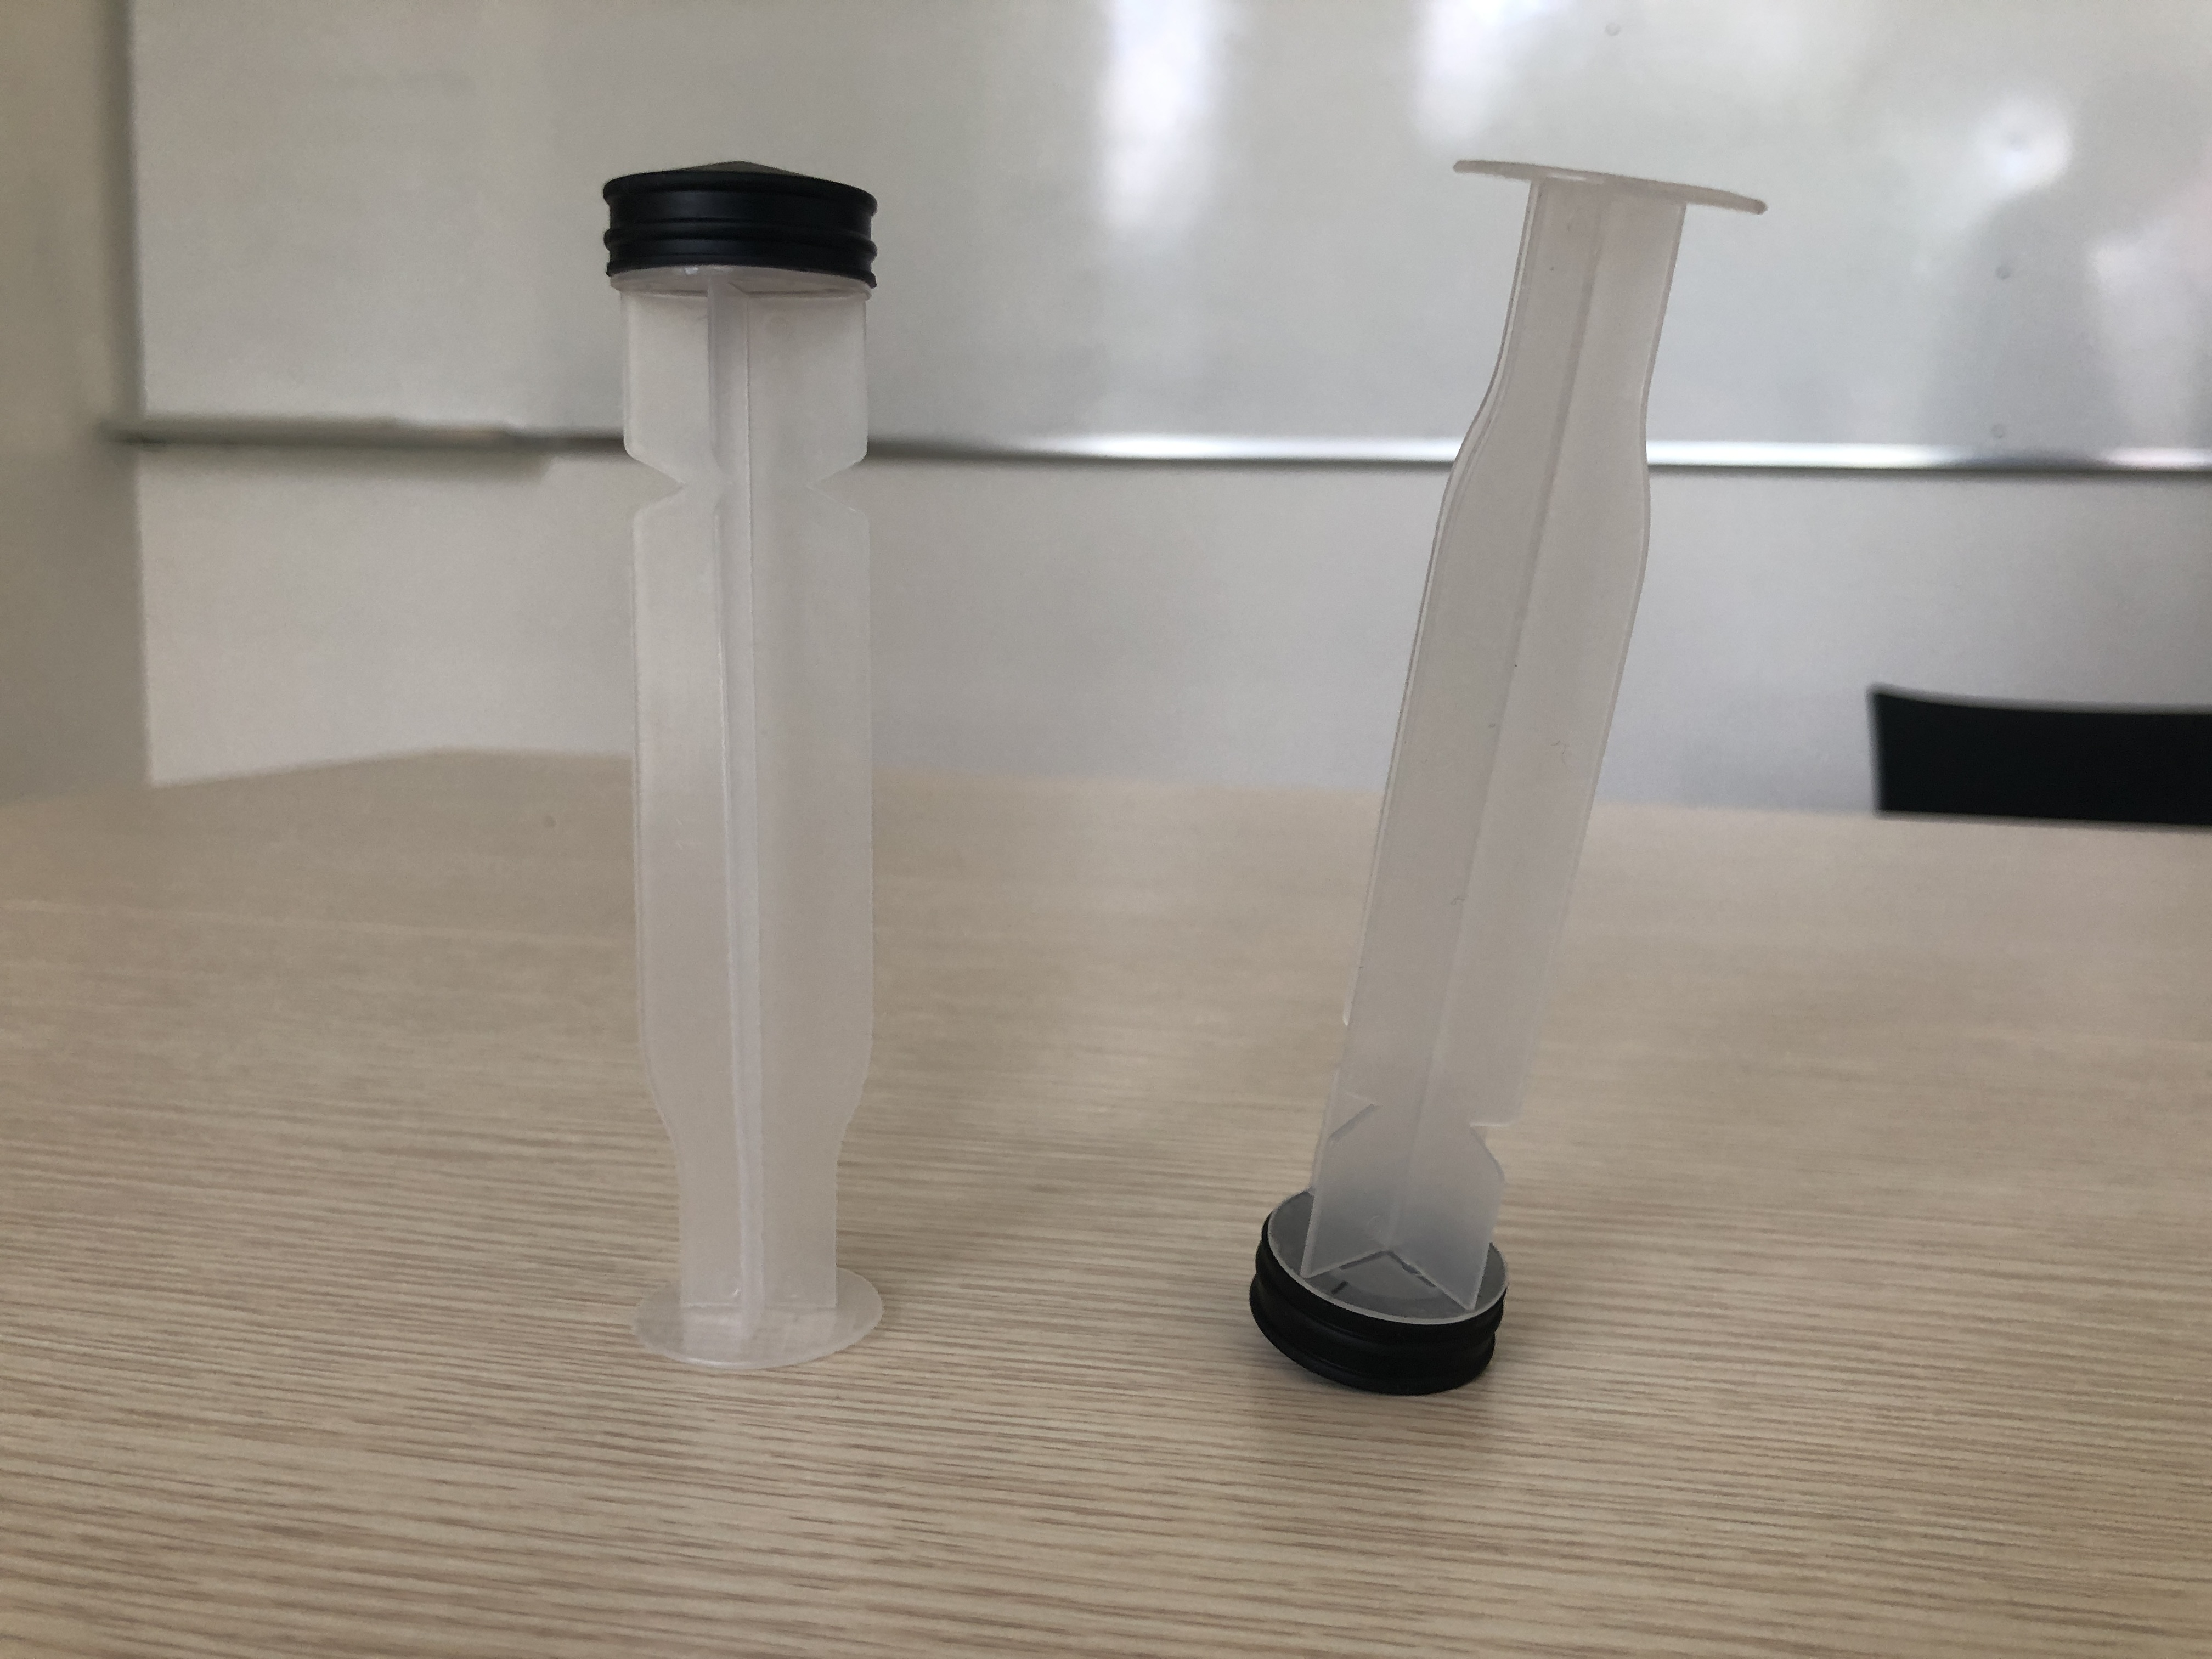plunger: (1235, 134, 1782, 1399), (594, 150, 902, 1371)
